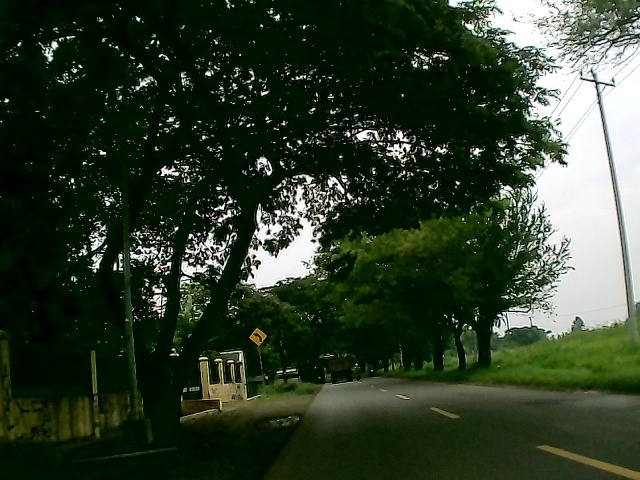Tikungan ke kiri: (248, 326, 269, 349)
